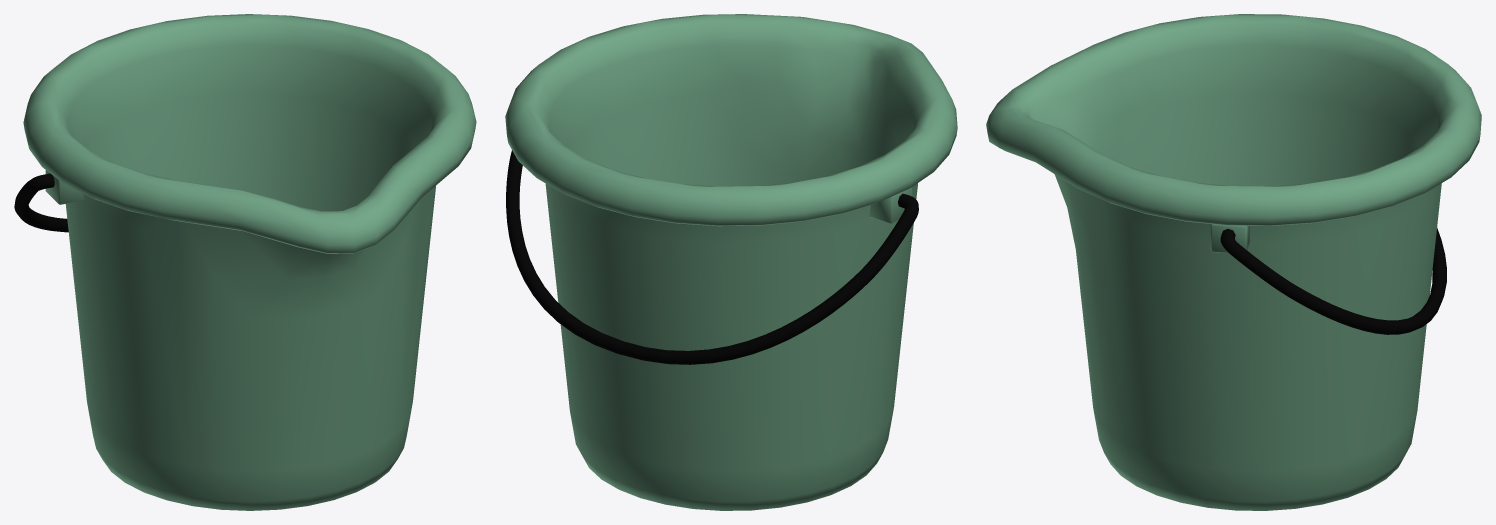
Rendered from pail.fbx.
3 renders of one model, left to right at view 1: azimuth 30°, elevation 25°; view 2: azimuth 150°, elevation 25°; view 3: azimuth 270°, elevation 25°, orthographic.
Parts seen in each view (by area): view 1: Plane.001, BezierCurve, Cube; view 2: Plane.001, BezierCurve, Cube; view 3: Plane.001, BezierCurve, Cube.
Boxes of the visible parts, x1,y1,x2,y2 form: Plane.001: (23,14,476,510); BezierCurve: (14,173,68,232); Cube: (45,170,84,204); Plane.001: (505,14,957,510); BezierCurve: (506,150,918,364); Cube: (869,187,911,223); Plane.001: (986,14,1481,510); BezierCurve: (1220,227,1446,334); Cube: (1210,224,1249,252).
Bounding box in the file's own units: 30.1 × 24.34 × 31.41.
